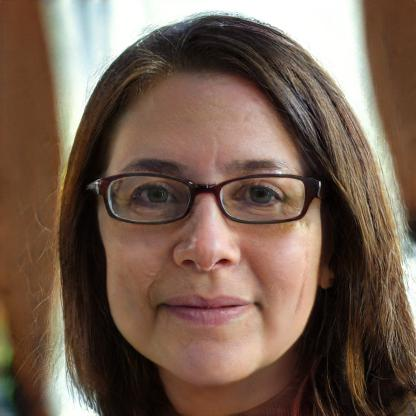glasses: (96, 167, 321, 231)
